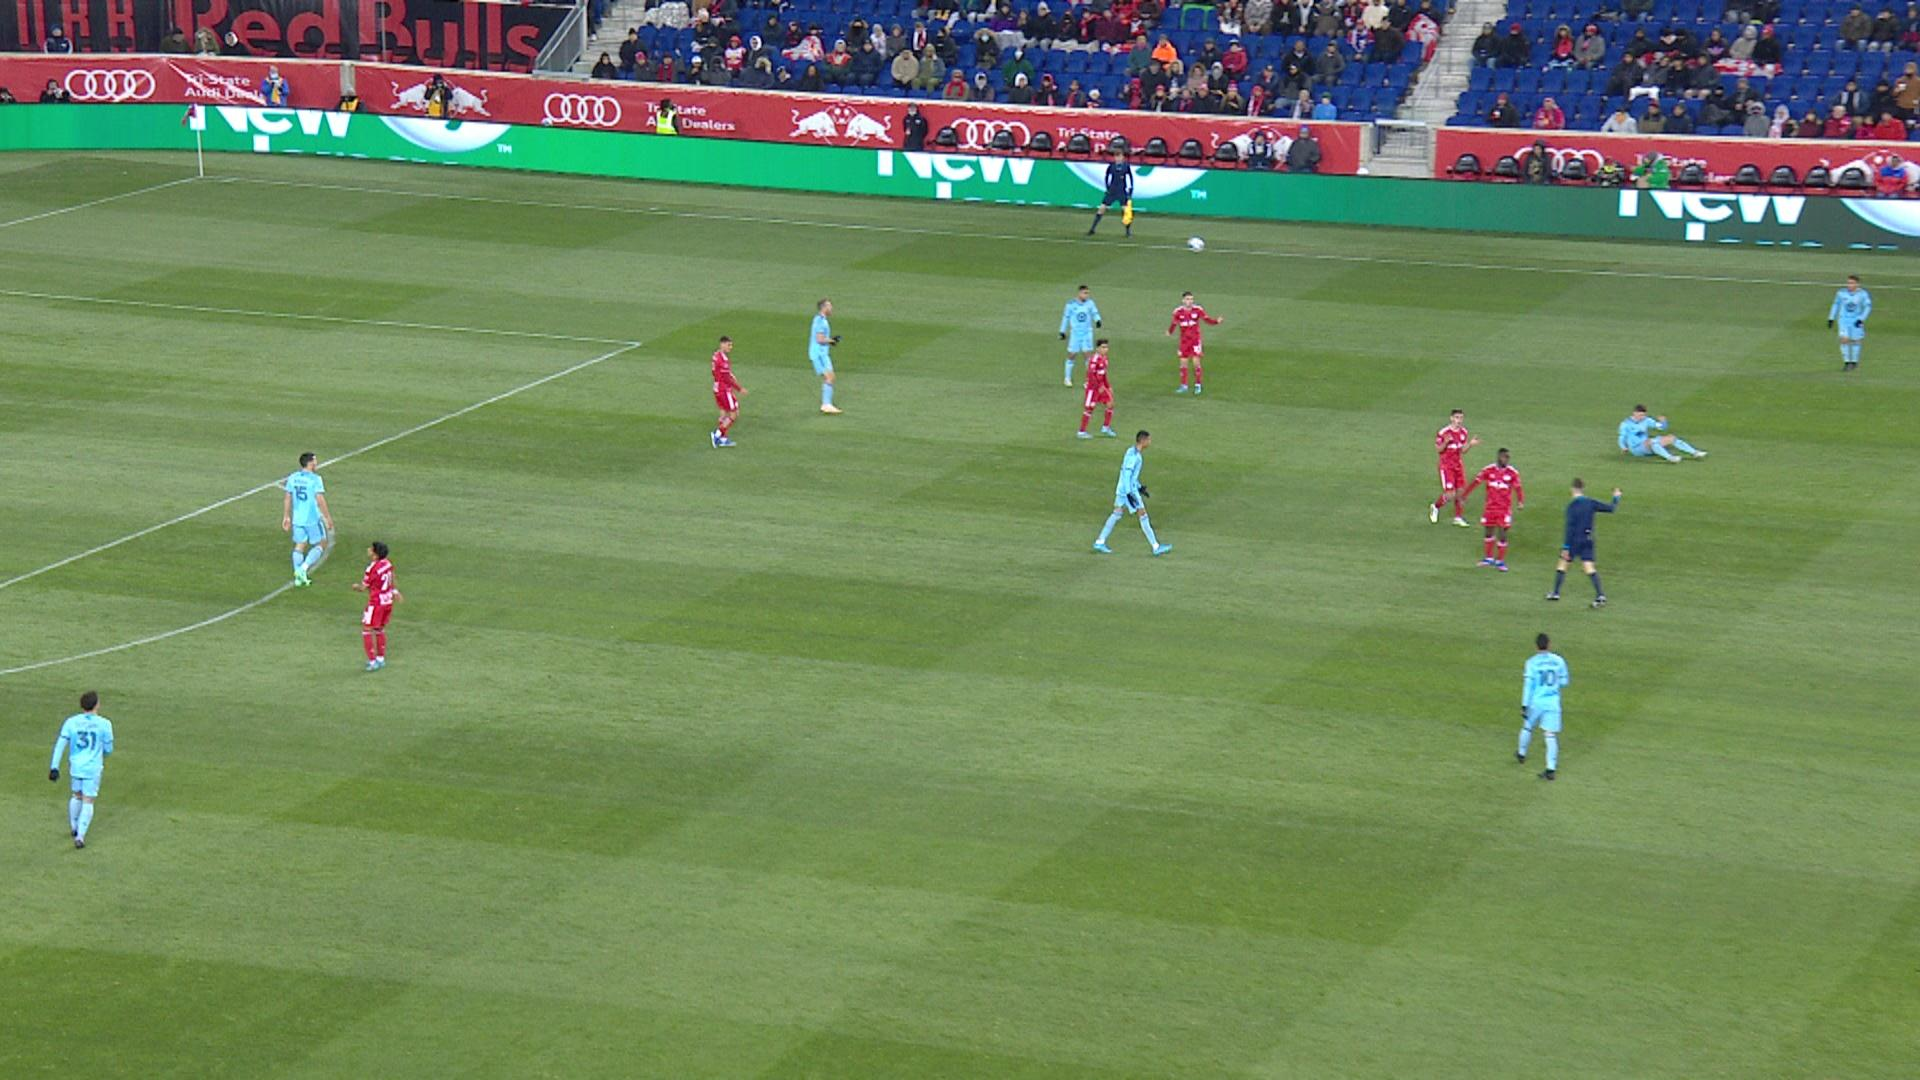football: (1187, 236, 1205, 253)
